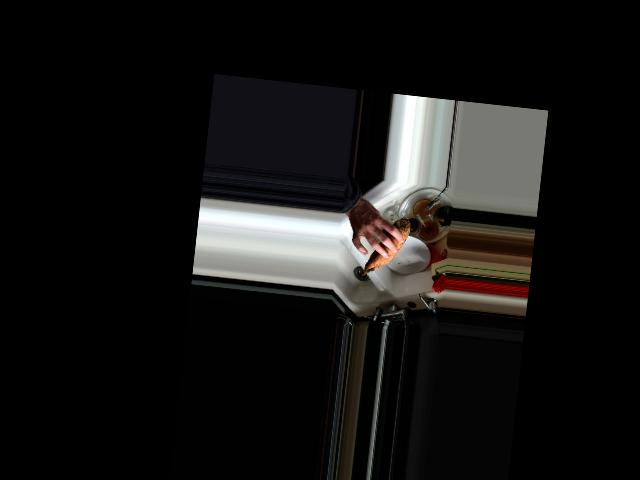sweet_potato: (360, 215, 411, 281)
